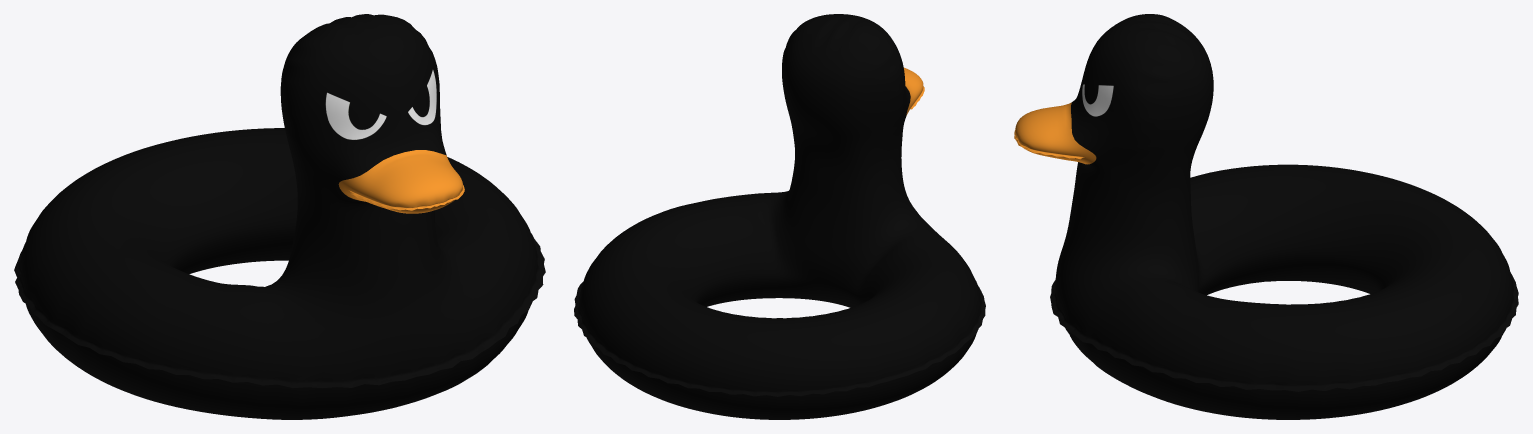
File: GooseForWeb1.gltf
3 views of the same model, side by side, from view 1: azimuth 30°, elevation 25°; view 2: azimuth 150°, elevation 25°; view 3: azimuth 270°, elevation 25° (orthographic). The views are drawn at different scales.
Parts seen in each view (by area): view 1: Duck, Duck.001; view 2: Duck; view 3: Duck, Duck.001.
Boxes of the visible parts, x1,y1,x2,y2 form: Duck: (14,14,545,419); Duck.001: (325,70,436,139); Duck: (574,14,985,419); Duck: (1014,14,1518,419); Duck.001: (1082,84,1113,116).
Bounding box in the file's own units: 4.42 × 3.37 × 4.8.
Materials: 3 (1 with a texture image).
